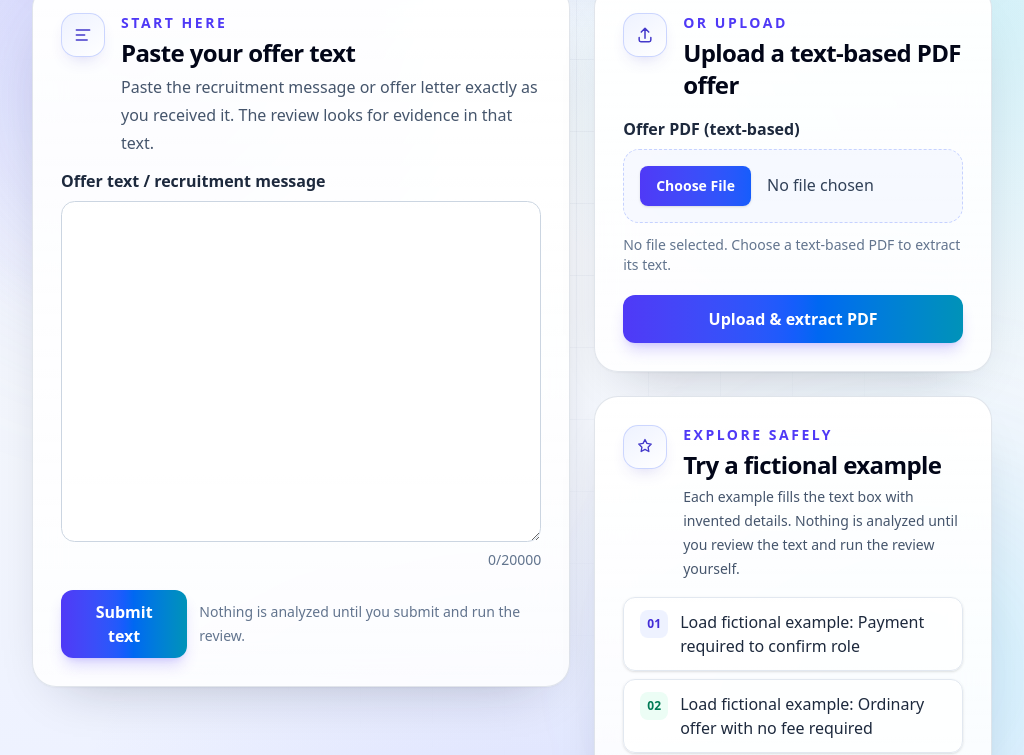
OfferShield review page › lets the user edit and copy the email, and reports copy success
This screenshot has width=1024, height=755.
(page scrolled)
Type "To confirm your acceptance, please pay the registration fee." into the text box labelled "Offer text / recruitment message". click: (301, 372)
box: [61,201,541,542]
Click the button "Submit text". click: (124, 624)
box: [61,590,187,658]
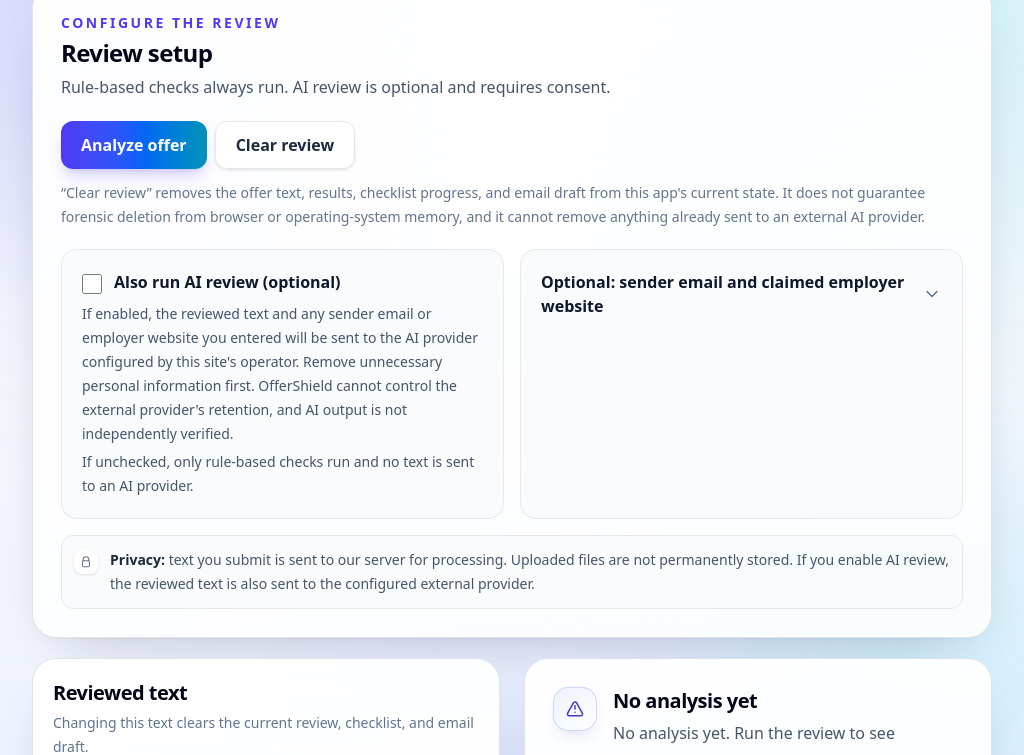
Expected: the button "Analyze offer" is shown
Click the button "Analyze offer". click: (134, 145)
box: [61,121,207,169]
(page scrolled)
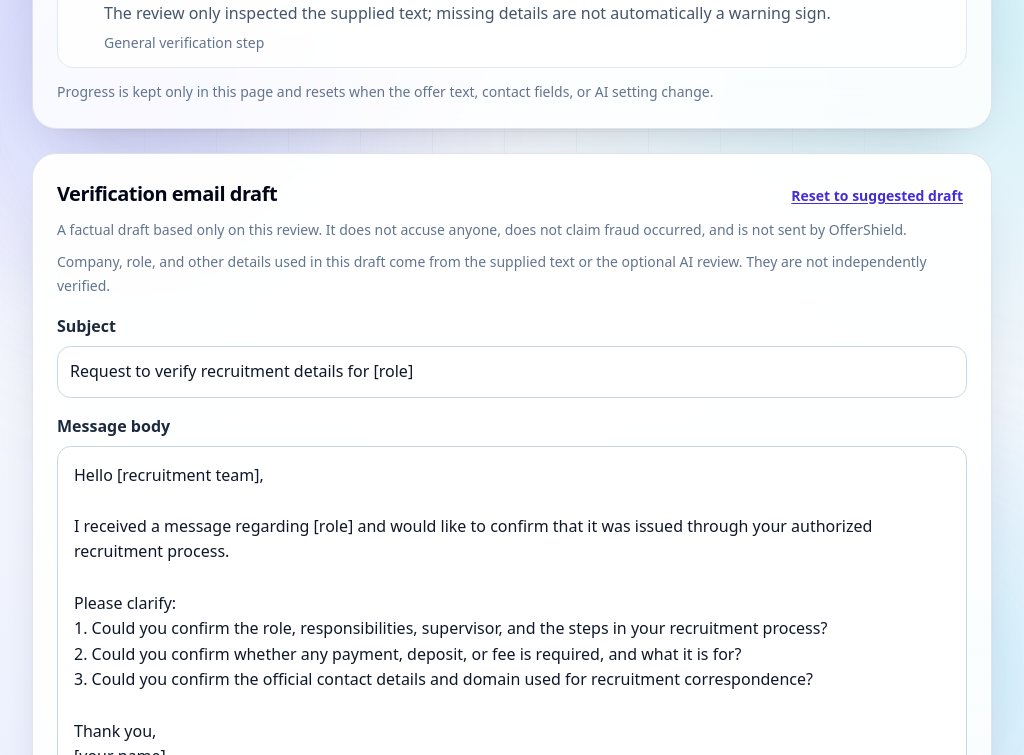
Replace the text in the field labelled "Subject" with "My subject". click: (512, 372)
box: [57,346,967,398]
(page scrolled)
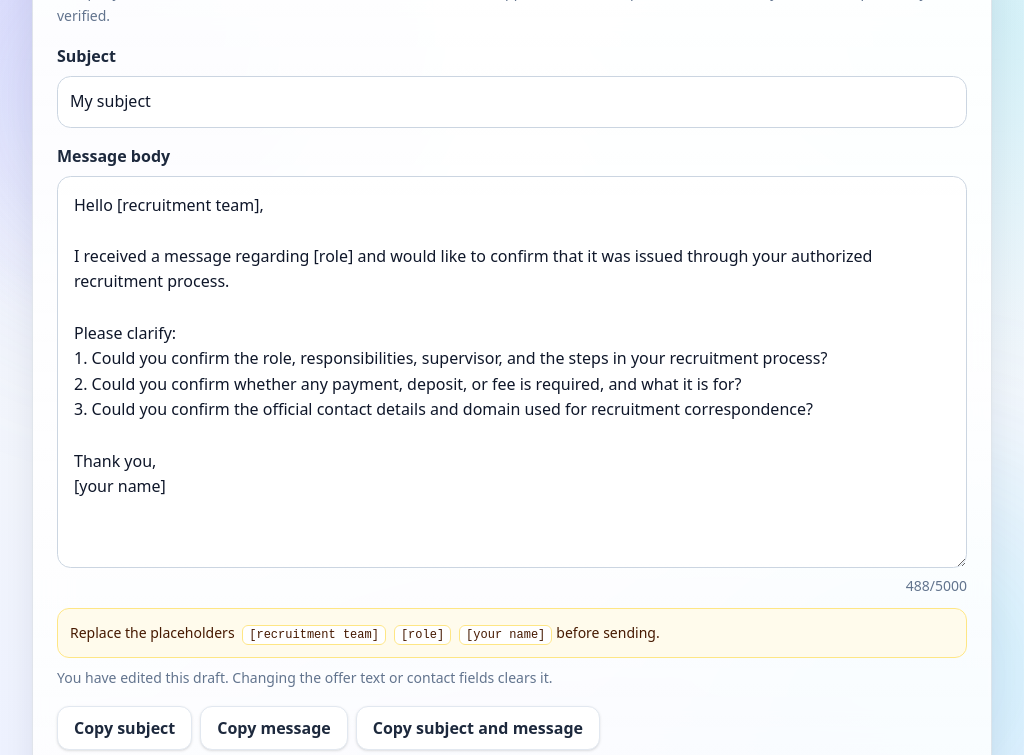
Replace the text in the text box labelled "Message body" with "My edited message". click: (512, 372)
box: [57,176,967,568]
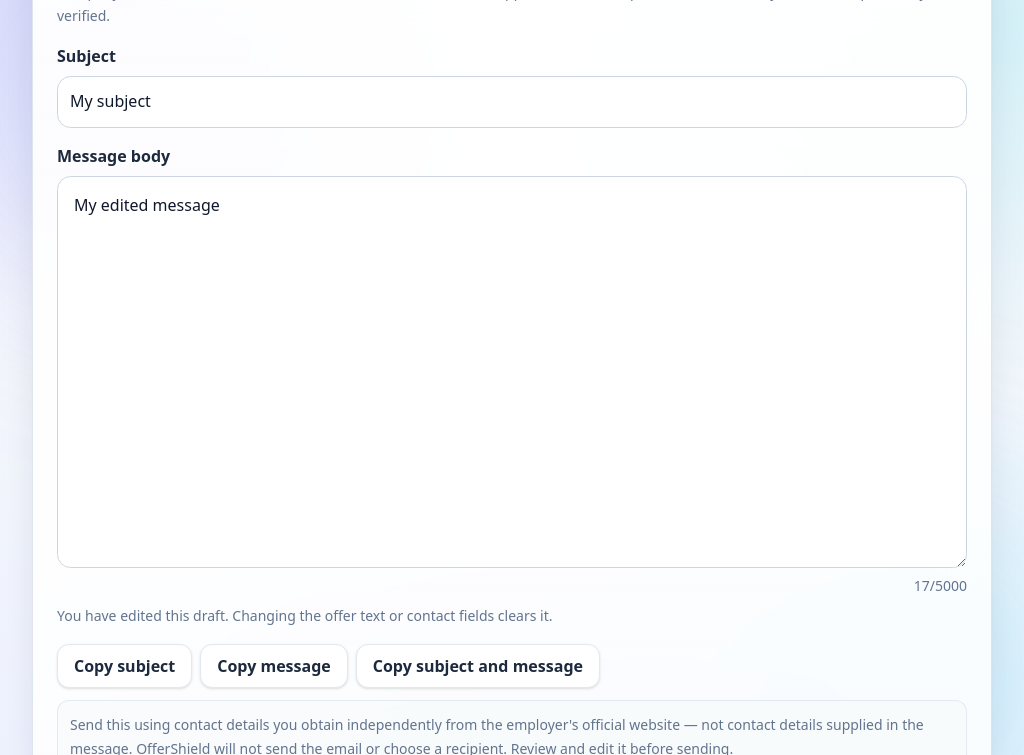
Expected: the text "You have edited this draft" is shown, [57,606,552,625]
Click the button "Copy subject". click: (125, 666)
box: [57,644,192,688]
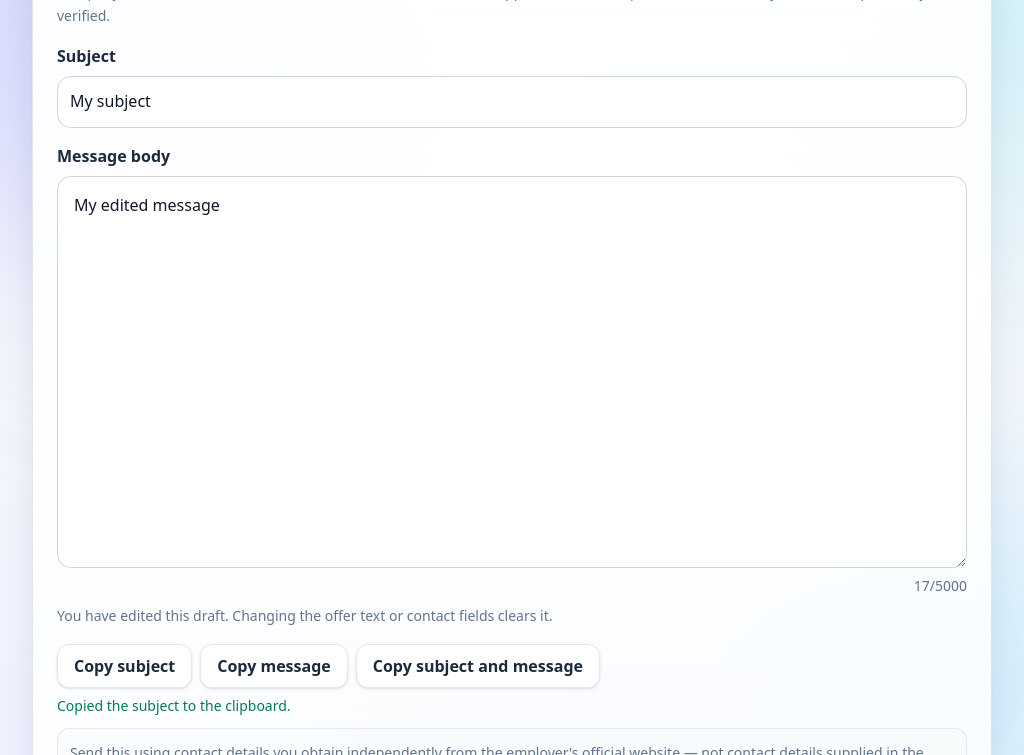
Expected: the text "Copied the subject to the clipboard." is shown, [57,696,291,715]
Click the button "Copy subject and message". click: (478, 666)
box: [356,644,600,688]
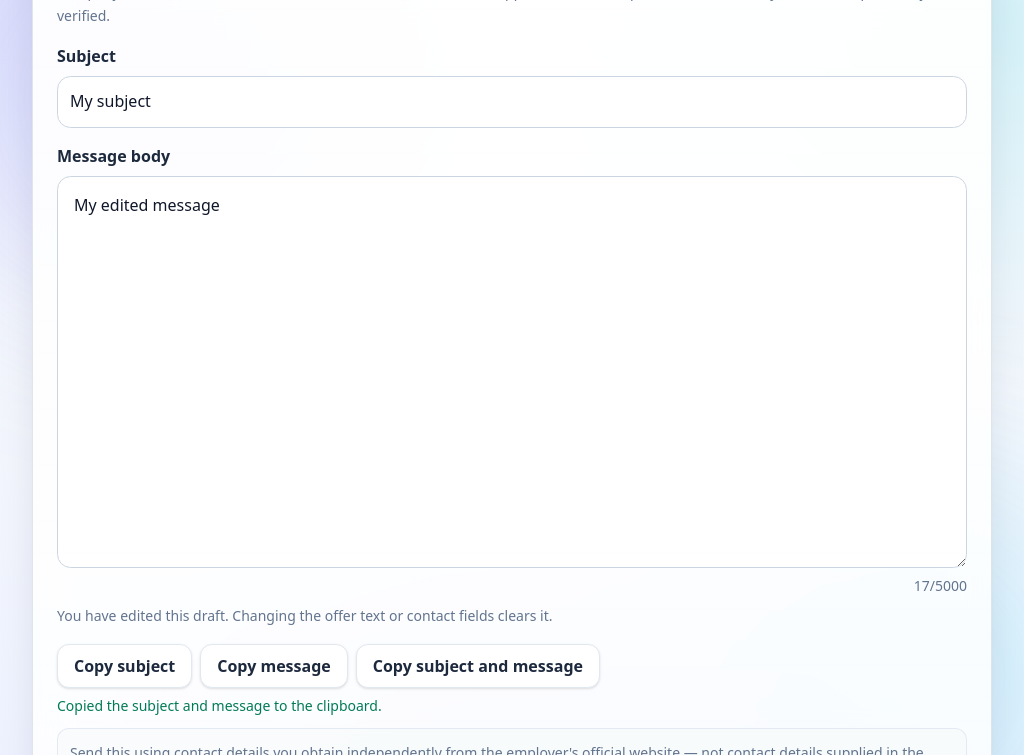
Expected: the text "Copied the subject and message to the clipboard." is shown, [57,696,382,715]
